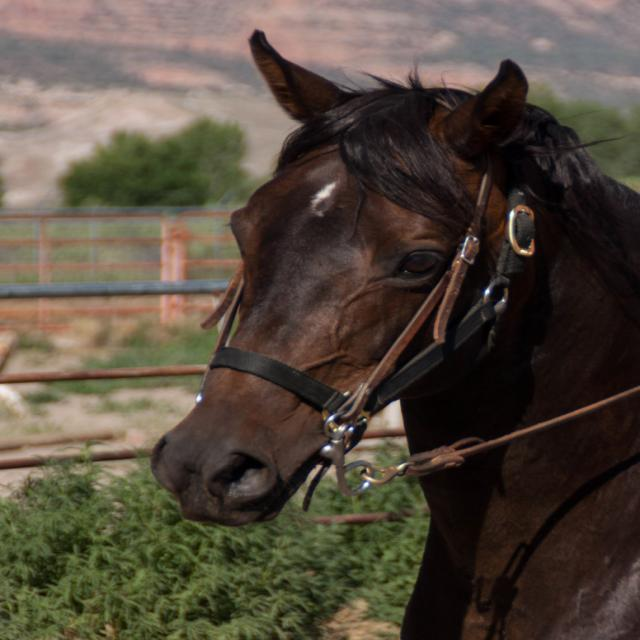Horse: (150, 31, 640, 640)
